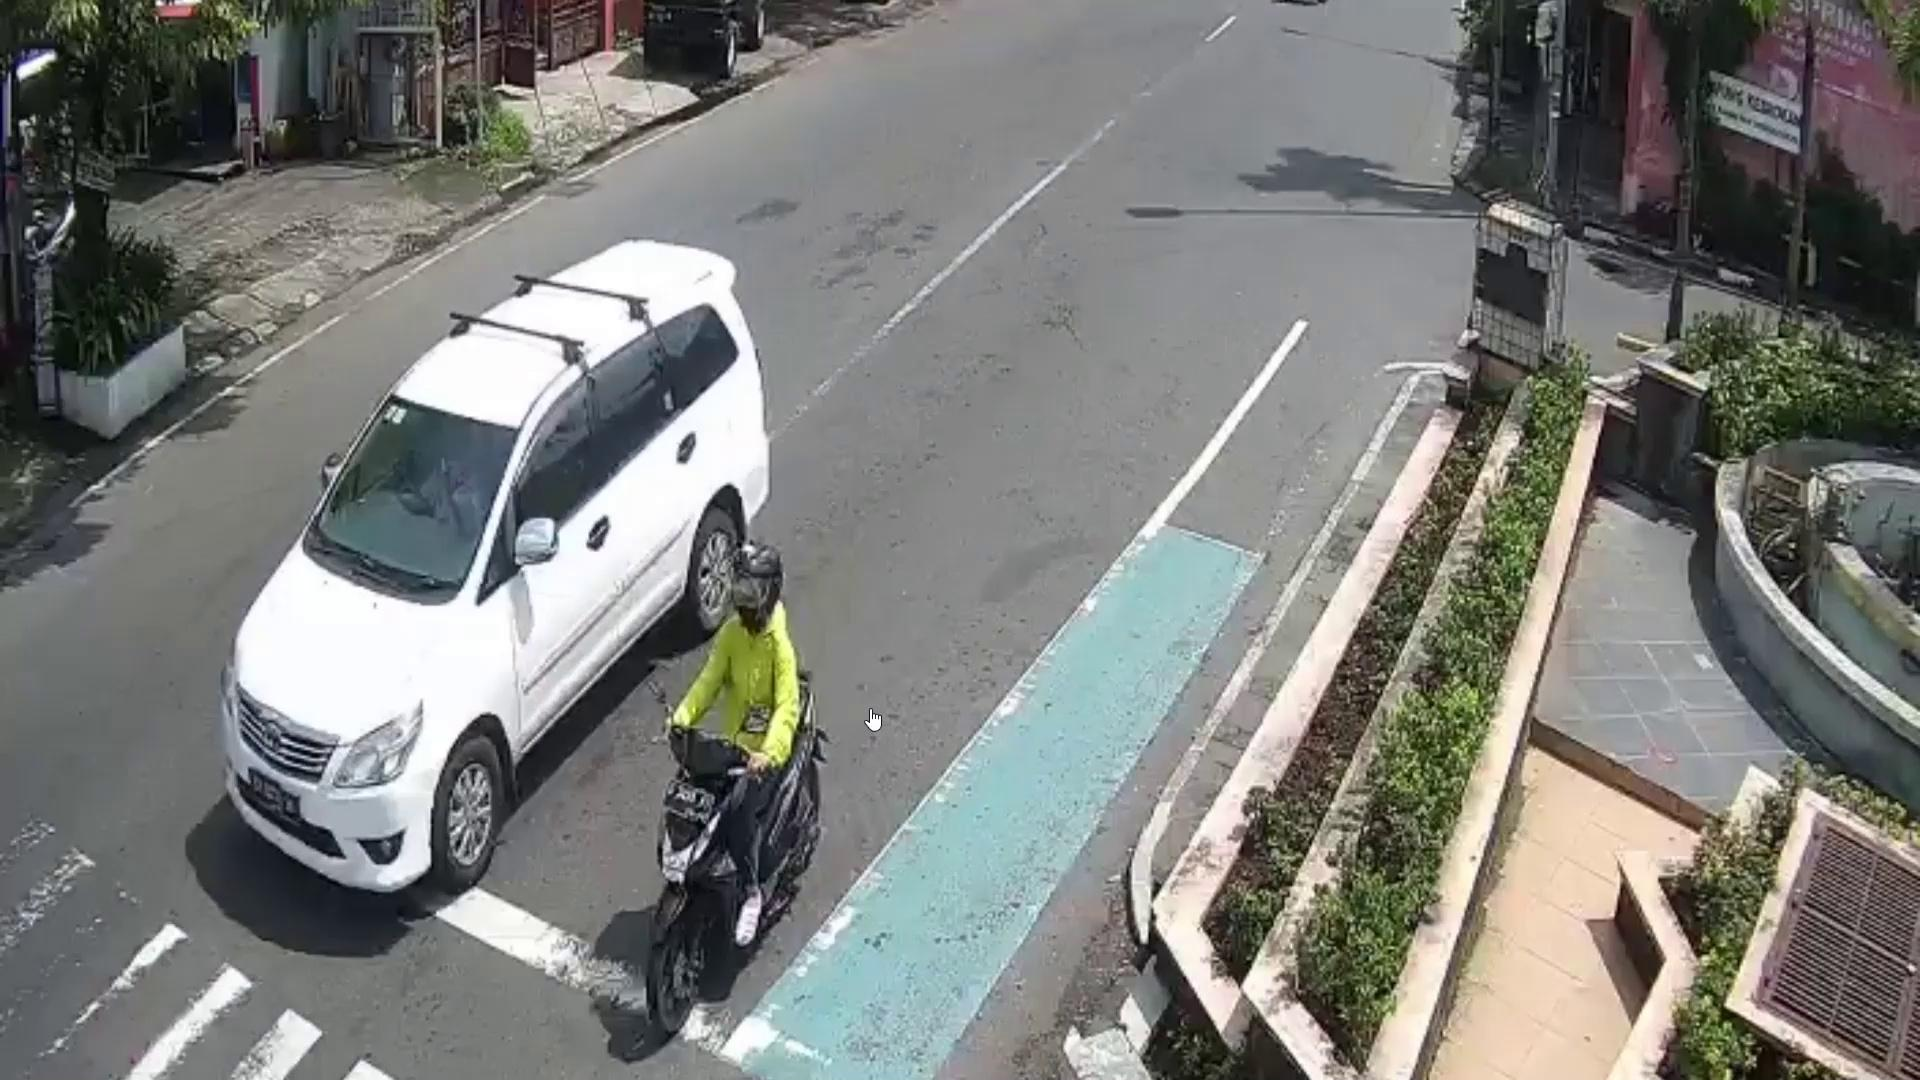car: (225, 239, 767, 891)
motorbike: (646, 670, 820, 1038)
